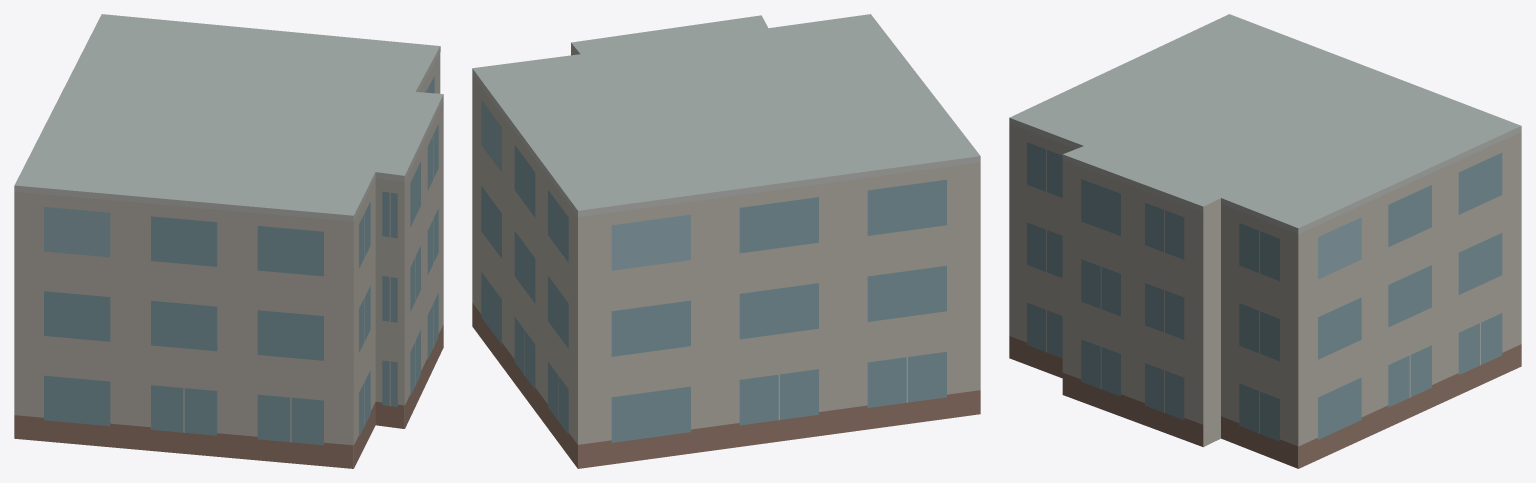
File: survey-upis-32669060.glb
3 views of the same model, side by side, from view 1: azimuth 30°, elevation 25°; view 2: azimuth 150°, elevation 25°; view 3: azimuth 270°, elevation 25° (orthographic). The views are drawn at different scales.
Parts seen in each view (by area): view 1: survey-upis-32669060.tmp; view 2: survey-upis-32669060.tmp; view 3: survey-upis-32669060.tmp.
Part boxes in pixels (bbox=[...]): survey-upis-32669060.tmp: bbox=[14, 14, 443, 468]; survey-upis-32669060.tmp: bbox=[472, 14, 980, 468]; survey-upis-32669060.tmp: bbox=[1009, 14, 1521, 468].
Size of the model in its own units: 19.5 by 10.2 by 19.7.
